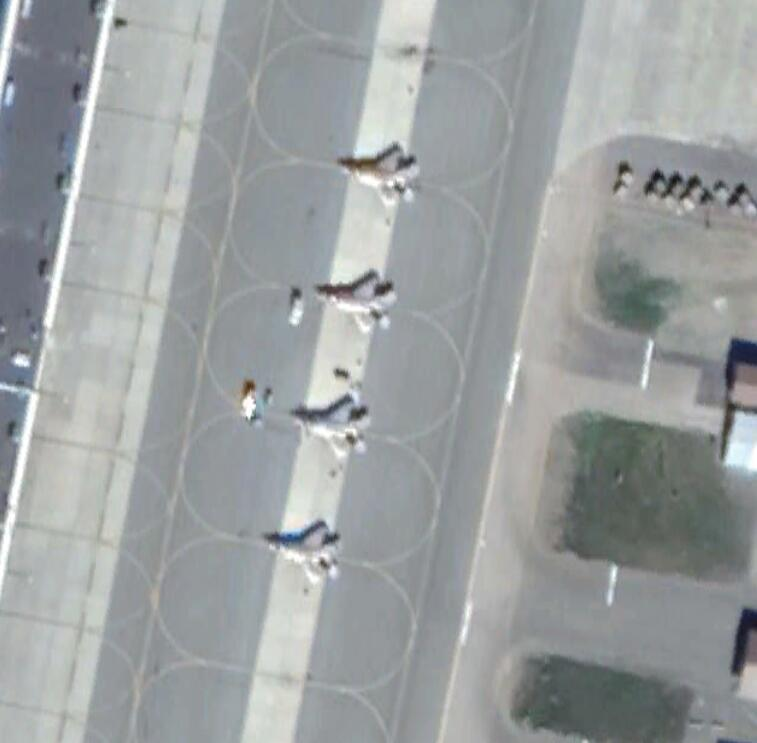A15: (283, 398, 374, 461), (317, 270, 400, 337), (262, 520, 345, 587), (337, 147, 420, 212)
